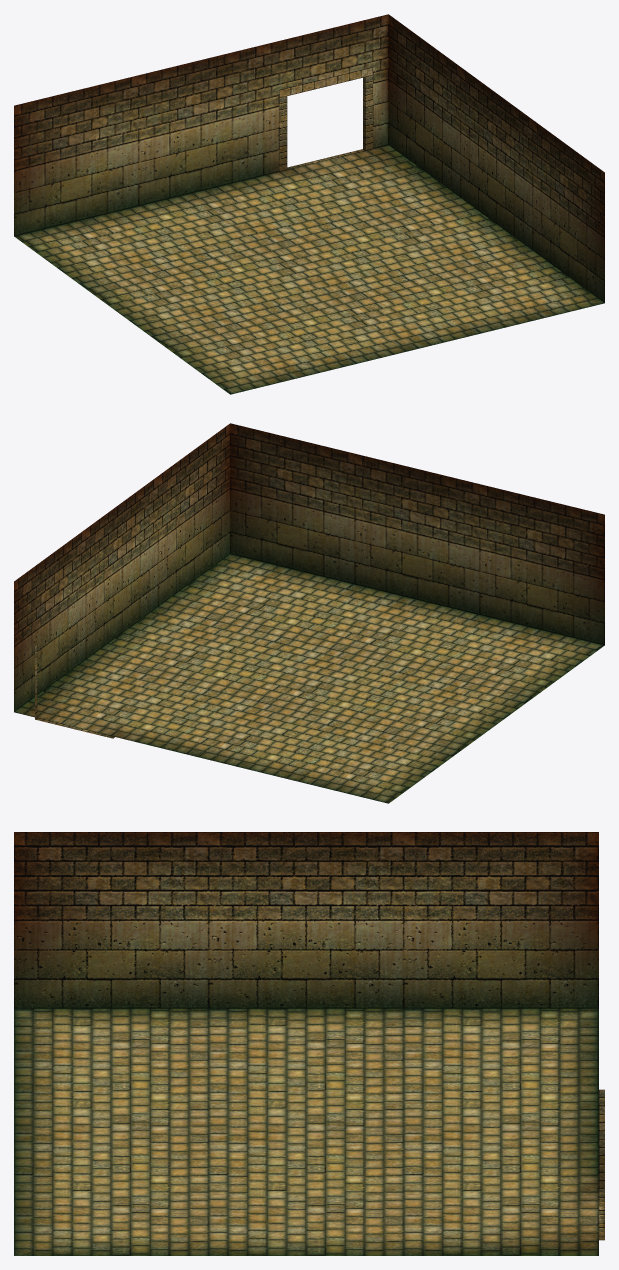
The model's file is MISSION12_INTERIORROOMS04A.glb.
3 renders of one model, top to bottom at view 1: azimuth 30°, elevation 25°; view 2: azimuth 150°, elevation 25°; view 3: azimuth 270°, elevation 25°, orthographic. The views are drawn at different scales.
Visible parts, largest first — view 1: MISSION12_INTERIORROOMS04A; view 2: MISSION12_INTERIORROOMS04A; view 3: MISSION12_INTERIORROOMS04A.
Boxes of the visible parts, <box> form: MISSION12_INTERIORROOMS04A: <box>14,14,604,394</box>; MISSION12_INTERIORROOMS04A: <box>14,423,604,803</box>; MISSION12_INTERIORROOMS04A: <box>14,832,604,1255</box>.
Size of the model in its own units: 12 by 4 by 12.13.
4 materials, 4 textured.
